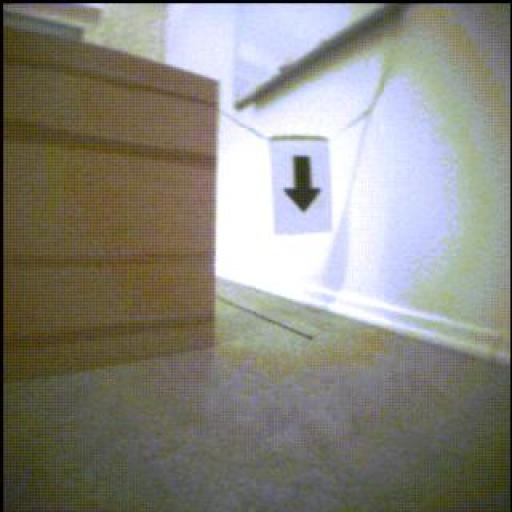Arrow: (286, 156, 321, 212)
